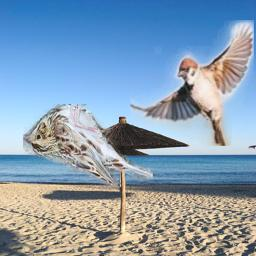Sparrow: (130, 20, 254, 146), (23, 104, 153, 186)
